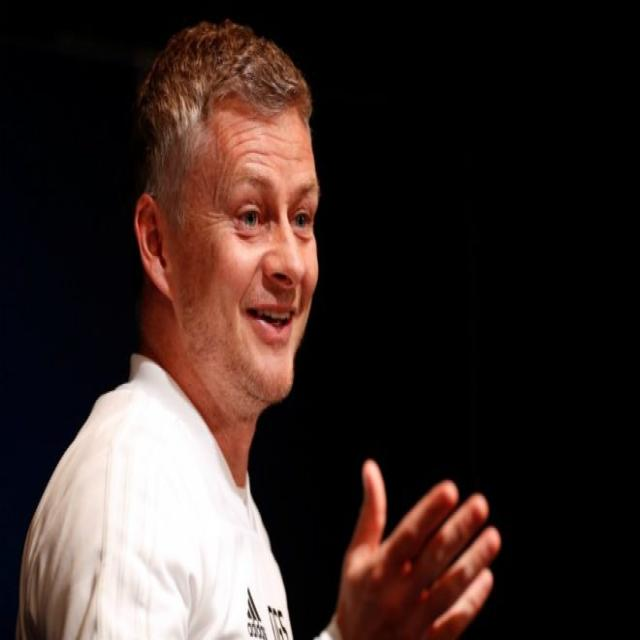human: (19, 13, 506, 640)
